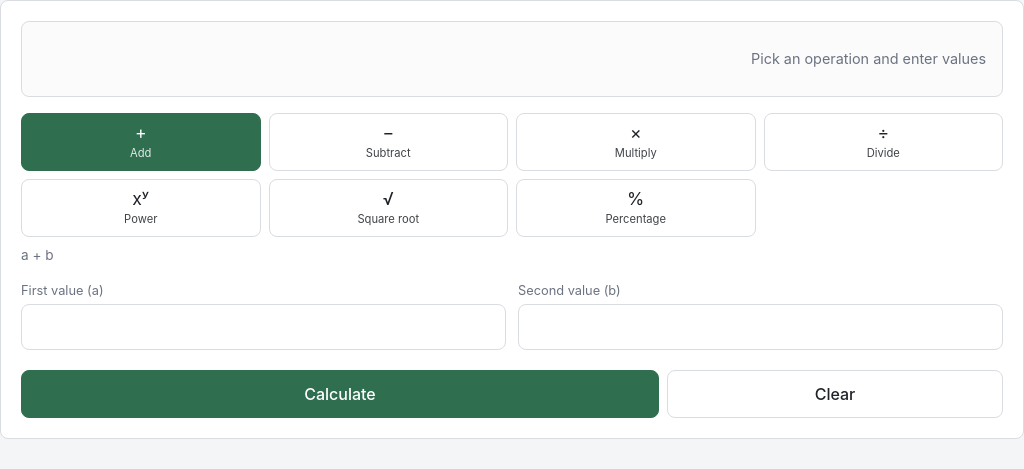
Test case: Calculator › sends the selected operation and shows the result
Type "4" into the field labelled "First value (a)". click: (264, 327)
box: [21,304,506,350]
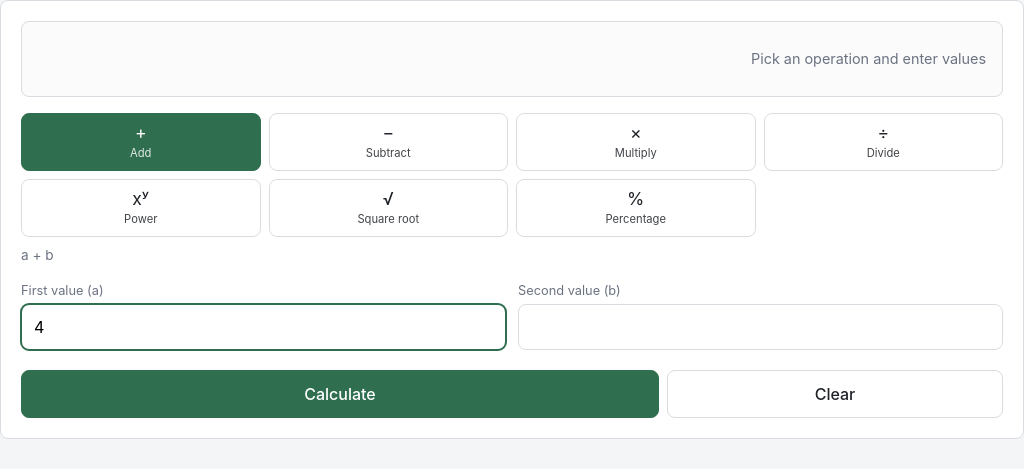
Type "2" into the field labelled "Second value (b)". click: (760, 327)
box: [518,304,1003,350]
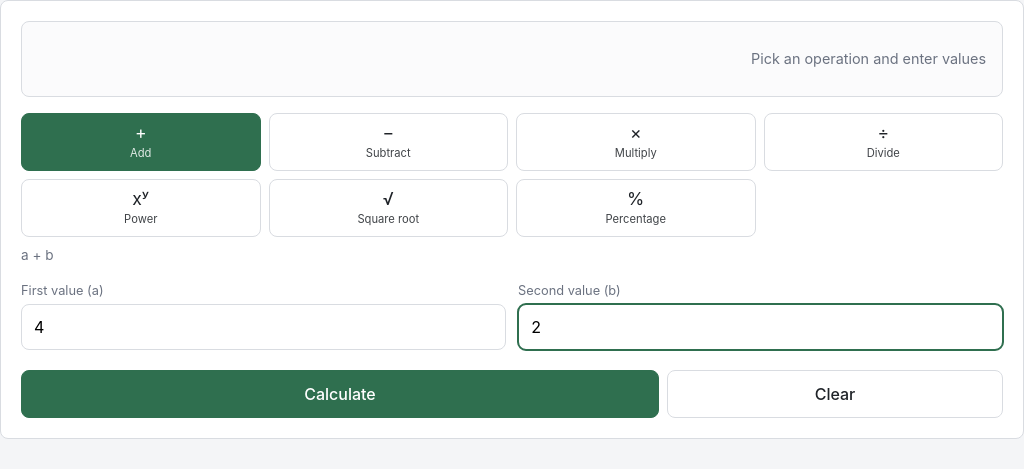
Click the button "Calculate". click: (340, 394)
box: [21,370,659,418]
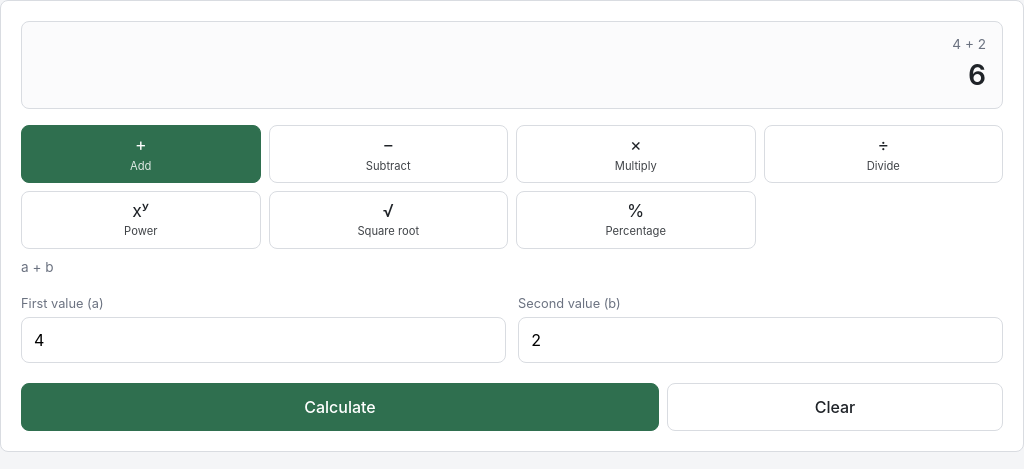
Check: the text "6" is shown, box [968,54,986,96]
Check: the text "4 + 2" is shown, box [952,34,986,54]
